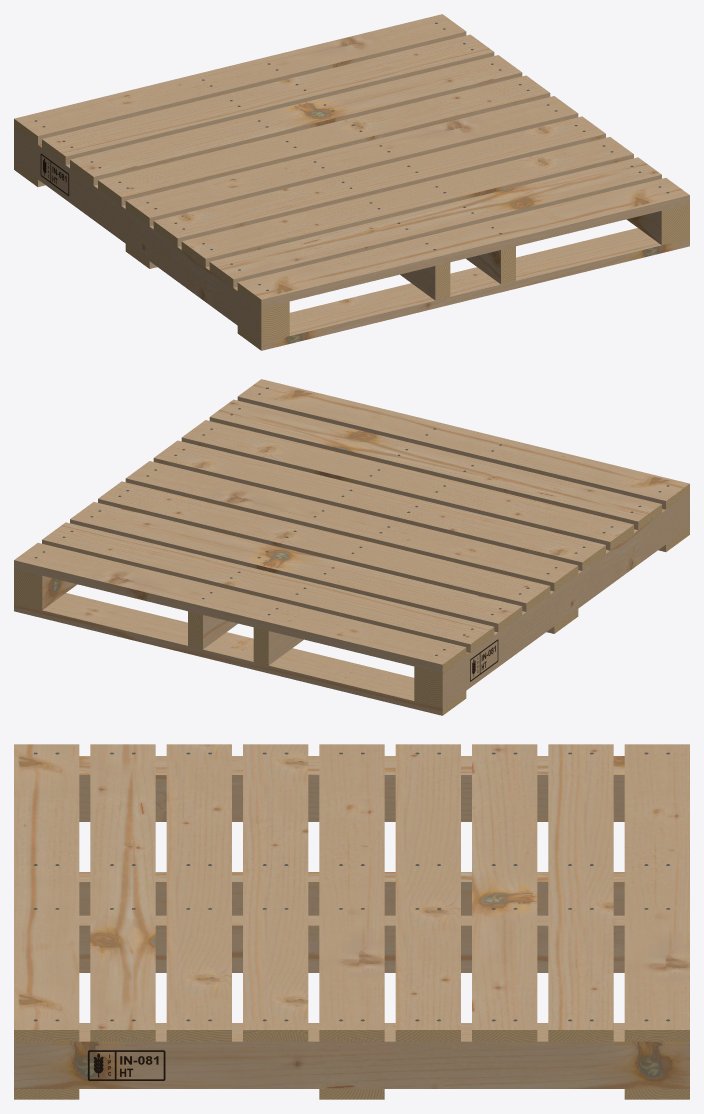
The model's file is pw06-pinewood-pallet-1140x1140-2-way.glb.
3 renders of one model, top to bottom at view 1: azimuth 30°, elevation 25°; view 2: azimuth 150°, elevation 25°; view 3: azimuth 270°, elevation 25°, orthographic. The views are drawn at different scales.
Visible parts, largest first — view 1: pw06-pinewood-pallet-1140x1140-2-way; view 2: pw06-pinewood-pallet-1140x1140-2-way; view 3: pw06-pinewood-pallet-1140x1140-2-way.
Part boxes in pixels (x1,y1,x2,y2): pw06-pinewood-pallet-1140x1140-2-way: (14, 14, 689, 350); pw06-pinewood-pallet-1140x1140-2-way: (14, 379, 689, 715); pw06-pinewood-pallet-1140x1140-2-way: (14, 744, 689, 1099).
Size of the model in its own units: 1.14 by 0.131 by 1.14.
4 materials, 3 textured.
